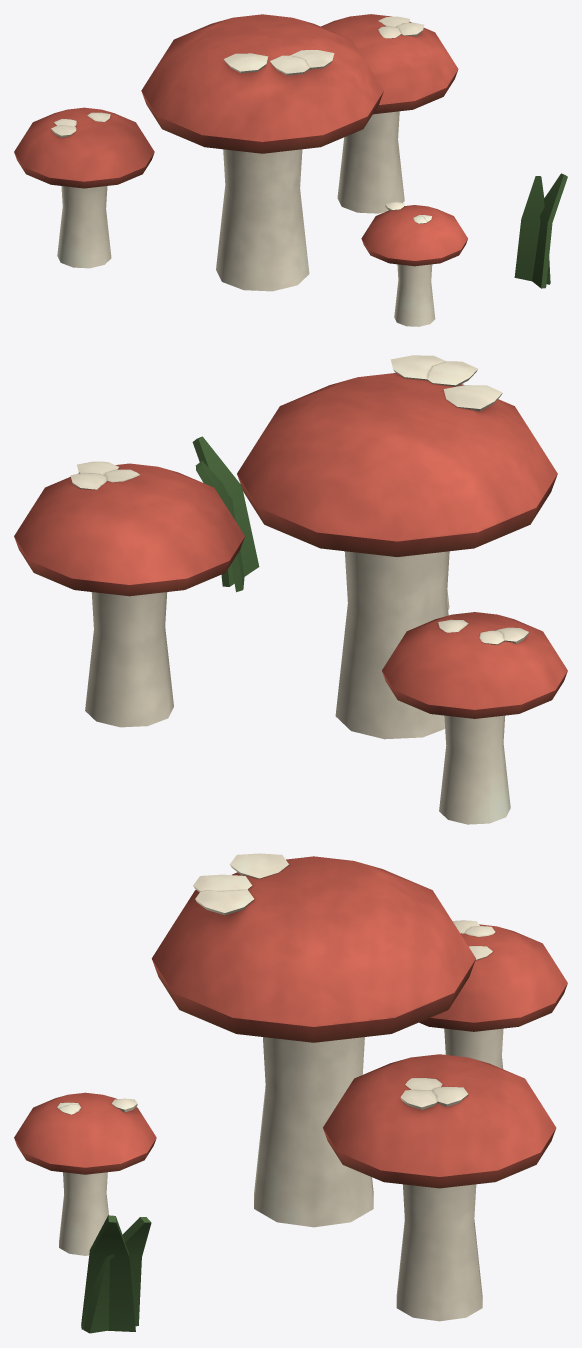
File: mushrooms.glb
The picture shows the model from 3 angles, top to bottom: view 1: azimuth 30°, elevation 25°; view 2: azimuth 150°, elevation 25°; view 3: azimuth 270°, elevation 25°; orthographic projection. The views are drawn at different scales.
Visible parts, largest first — view 1: Mushrooms, v_mushrooms_f_grass_deep; view 2: Mushrooms, v_mushrooms_f_grass_deep; view 3: Mushrooms, v_mushrooms_f_grass_deep.
Part boxes in pixels (left/top/right/bottom): Mushrooms: left=14, top=14, right=467, bottom=326; v_mushrooms_f_grass_deep: left=514, top=173, right=567, bottom=288; Mushrooms: left=14, top=355, right=567, bottom=824; v_mushrooms_f_grass_deep: left=192, top=436, right=259, bottom=592; Mushrooms: left=14, top=853, right=567, bottom=1321; v_mushrooms_f_grass_deep: left=81, top=1215, right=151, bottom=1333.
Bounding box in the file's own units: 0.5546 × 0.3087 × 0.4848.
2 materials, 1 textured.
